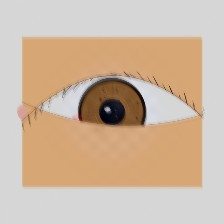hemorrhage_spot: (66, 95, 146, 159)
